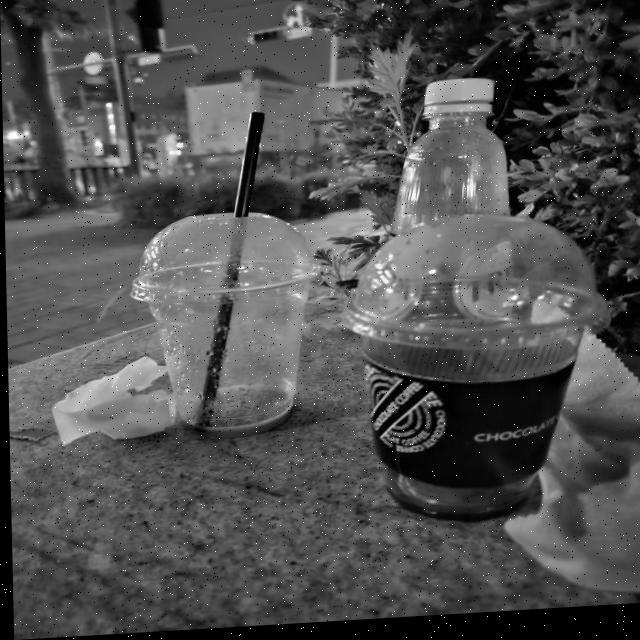cup: (336, 214, 610, 540), (131, 201, 328, 443)
